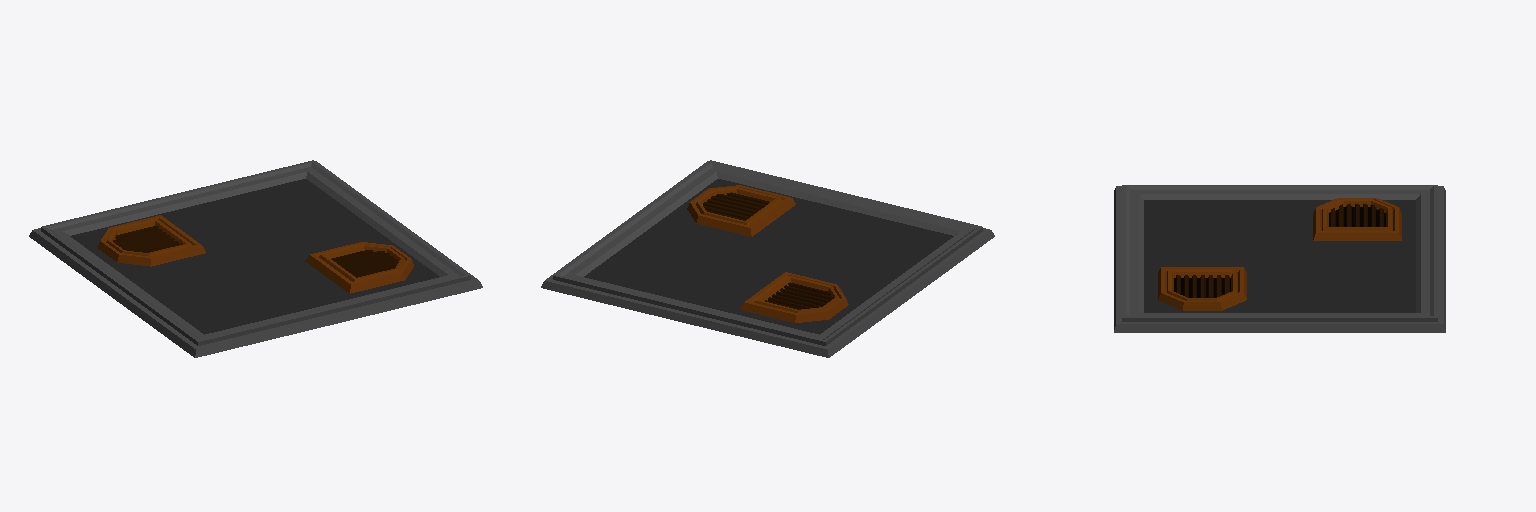
Rendered from RoofTile_SmallVents.obj.
The picture shows the model from 3 angles: view 1: azimuth 30°, elevation 25°; view 2: azimuth 150°, elevation 25°; view 3: azimuth 270°, elevation 25°; orthographic projection.
Parts seen in each view (by area): view 1: RoofTile_SmallVents_Plane.122; view 2: RoofTile_SmallVents_Plane.122; view 3: RoofTile_SmallVents_Plane.122.
Boxes of the visible parts, <box> form: RoofTile_SmallVents_Plane.122: <box>29,160,482,357</box>; RoofTile_SmallVents_Plane.122: <box>541,160,994,357</box>; RoofTile_SmallVents_Plane.122: <box>1114,185,1445,332</box>.
Bounding box in the file's own units: 2 × 0.0907 × 2.